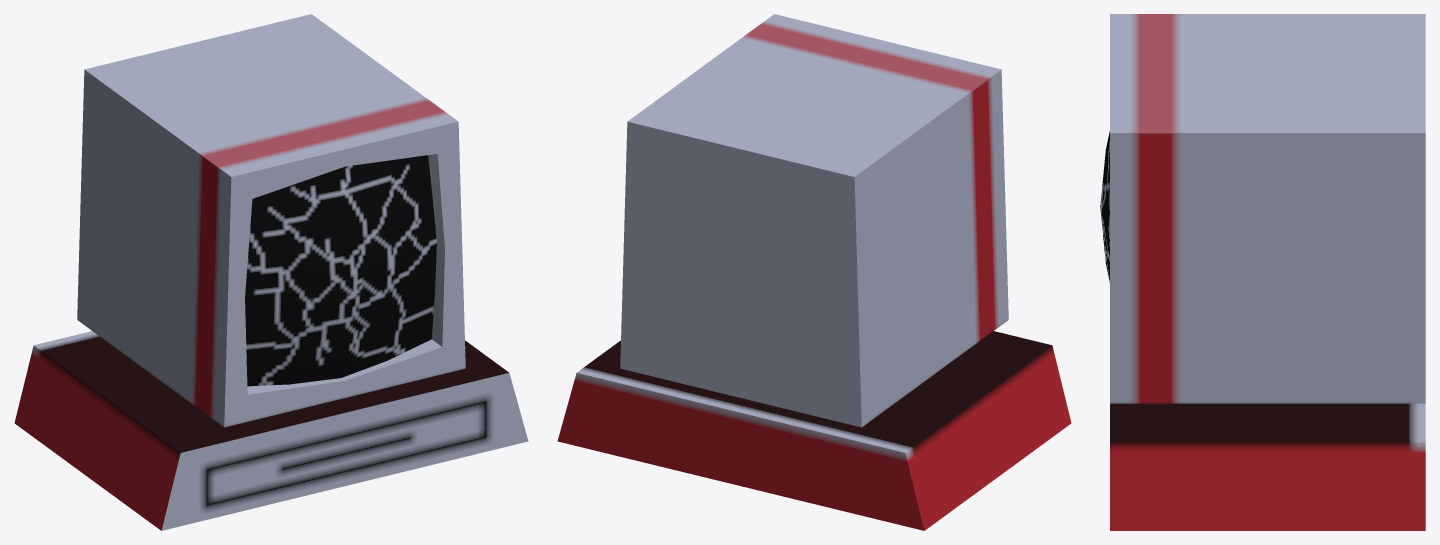
File: PCbreak.fbx
The picture shows the model from 3 angles, left to right: view 1: azimuth 30°, elevation 25°; view 2: azimuth 150°, elevation 25°; view 3: azimuth 270°, elevation 25°; orthographic projection. The views are drawn at different scales.
Visible parts, largest first — view 1: Куб.070; view 2: Куб.070; view 3: Куб.070.
Part boxes in pixels (box(x1,y1,x2,y2)): Куб.070: box(14, 14, 528, 530); Куб.070: box(557, 14, 1071, 530); Куб.070: box(1100, 14, 1425, 530).
Size of the model in its own units: 104 by 90.93 by 74.19.
